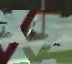Give way: (2, 4, 50, 62)
